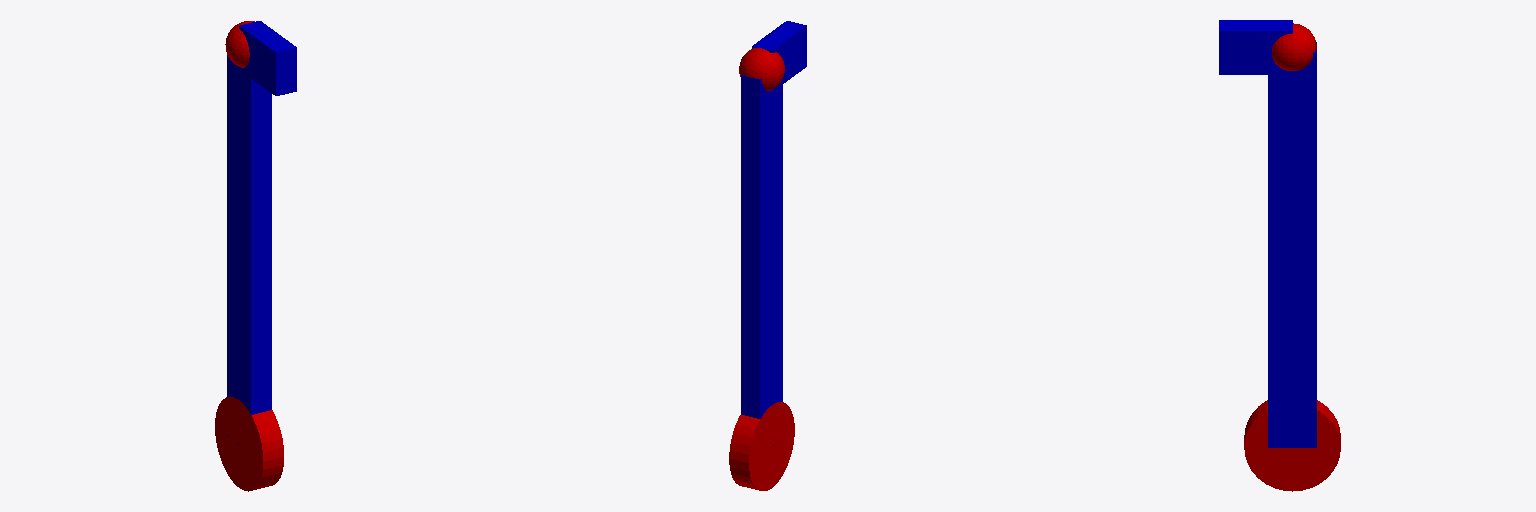
robot.urdf — TwoLinkStruct8687884750:
<?xml version="1.0"?>
<robot  name="TwoLinkStruct8687884750" >
 <material  name="blue" >
  <color  rgba="0 0 0.8 1.0" />
 </material>
 <material  name="red" >
  <color  rgba="0.8 0 0 1.0" />
 </material>
 <link  name="base_link" >
  <visual >
   <origin  rpy="0 1.5707 0"  xyz="0 0 0" />
   <material  name="red" />
   <geometry >
    <cylinder  length="0.05"  radius="0.1" />
   </geometry>
  </visual>
 </link>
 <joint  type="revolute"  name="joint1" >
  <parent  link="base_link" />
  <child  link="link1" />
  <origin  xyz="0 0 0"  rpy="0 0 0" />
  <axis  xyz="1 0 0" />
 </joint>
 <link  name="link1" >
  <inertial >
   <origin  rpy="0 0 0"  xyz="0 0 0.45092663476868317" />
   <mass  value="3.0831109245971735" />
   <inertia  ixy="0.0"  iyy="0.001284629551915489"  izz="0.2096102599595801"  ixz="0.0"  ixx="0.2096102599595801"  iyz="0.0" />
  </inertial>
  <visual >
   <origin  rpy="0 0 0"  xyz="0 0 0.45092663476868317" />
   <material  name="blue" />
   <geometry >
    <box  size="0.05 0.1 0.9018532695373663" />
   </geometry>
  </visual>
 </link>
 <joint  type="fixed"  name="joint-joint-1" >
  <parent  link="link1" />
  <child  link="joint-link-1" />
  <origin  xyz="0 0 0.9018532695373663"  rpy="1.5707 0 0" />
  <axis  xyz="1 0 0" />
 </joint>
 <link  name="joint-link-1" >
  <inertial >
   <origin  rpy="0 0 0"  xyz="0 0 0" />
   <mass  value="1.7933941061023355" />
   <inertia  ixy="0"  iyy="0"  izz="0"  ixz="0"  ixx="0"  iyz="0" />
  </inertial>
  <visual >
   <origin  rpy="0 0 0"  xyz="0 0 0" />
   <material  name="red" />
   <geometry >
    <sphere  radius="0.05" />
   </geometry>
  </visual>
 </link>
 <joint  type="revolute"  name="joint2" >
  <parent  link="link1" />
  <child  link="link2" />
  <origin  xyz="0 0 0.9018532695373663"  rpy="1.5707 0 0" />
  <axis  xyz="1 0 0" />
 </joint>
 <link  name="link2" >
  <inertial >
   <origin  rpy="0 0 0"  xyz="0 0 0.07605333547204914" />
   <mass  value="0.536222086205544" />
   <inertia  ixy="0.0"  iyy="0.001284629551915489"  izz="0.006586665517874061"  ixz="0.0"  ixx="0.006586665517874061"  iyz="0.0" />
  </inertial>
  <visual >
   <origin  rpy="0 0 0"  xyz="0 0 0.07605333547204914" />
   <material  name="blue" />
   <geometry >
    <box  size="0.05 0.1 0.15210667094409827" />
   </geometry>
  </visual>
 </link>
 <joint  type="fixed"  name="eef_joint" >
  <parent  link="link2" />
  <child  link="eef" />
  <origin  xyz="0 0 0.15210667094409827"  rpy="0 0 0" />
 </joint>
 <link  name="eef" >
  <inertial >
   <origin  rpy="0 0 0"  xyz="0 0 0" />
   <mass  value="1" />
   <inertia  ixy="0"  iyy="0"  izz="0"  ixz="0"  ixx="0"  iyz="0" />
  </inertial>
 </link>
 <transmission  name="motor1" >
  <type  xmltext="SimpleTransmission" >
   SimpleTransmission
  </type>
  <actuator  name="motor1" >
   <mechanicalreduction  xmltext="1" >
    1
   </mechanicalreduction>
  </actuator>
  <joint  name="joint1" />
 </transmission>
 <transmission  name="motor2" >
  <type  xmltext="SimpleTransmission" >
   SimpleTransmission
  </type>
  <actuator  name="motor2" >
   <mechanicalreduction  xmltext="1" >
    1
   </mechanicalreduction>
  </actuator>
  <joint  name="joint2" />
 </transmission>
</robot>

<!-- {'carti': array([-0.1 ,  0.14,  0.85]), 'cartd': array([-0.1 ,  0.32,  1.29]), 'tau_mu': 0.7667900800259635, 'b0': 0.28881930971421643, 'Km': 0.28931779607328867, 'k_velocity': 15.626338782279769, 'tau_max_m': 2.3390564945115613, 'omega_max_m': 5161.13480738486, 'gear_ratio': 15.580494706961126, 'Kp': 0.06420177493469428, 'Kd': 63.1143285609207, 'm_m': 1.7933941061023355, 'l1': 0.9018532695373663, 'l2': 0.15210667094409827, 'k1': 14234.75509896178, 'k2': 373181809.4075554, 'k3': 229584068.48103097}-->

--- Render facts (derived) ---
3 views of the same robot in one strip: view 1: azimuth 30°, elevation 25°; view 2: azimuth 150°, elevation 25°; view 3: azimuth 270°, elevation 25° (orthographic).
Model TwoLinkStruct8687884750 with 5 links and 4 joints (2 revolute, 2 fixed), rooted at base_link, posed all joints at 0.
Links seen in each view (by area): view 1: link1, base_link, link2, joint-link-1; view 2: link1, base_link, link2, joint-link-1; view 3: link1, base_link, link2, joint-link-1.
Link boxes in pixels (bbox=[...]): link1: bbox=[227, 55, 271, 443]; base_link: bbox=[215, 397, 283, 491]; link2: bbox=[239, 21, 296, 95]; joint-link-1: bbox=[225, 21, 254, 67]; link1: bbox=[741, 74, 782, 445]; base_link: bbox=[729, 402, 794, 490]; link2: bbox=[752, 21, 806, 91]; joint-link-1: bbox=[739, 48, 784, 90]; link1: bbox=[1268, 42, 1316, 447]; base_link: bbox=[1244, 400, 1340, 491]; link2: bbox=[1219, 20, 1292, 74]; joint-link-1: bbox=[1272, 23, 1316, 70].
Size in the robot's own frame: 0.1 by 0.2521 by 1.05 metres.
Geometry: primitives only (box / cylinder / sphere), no mesh files.
